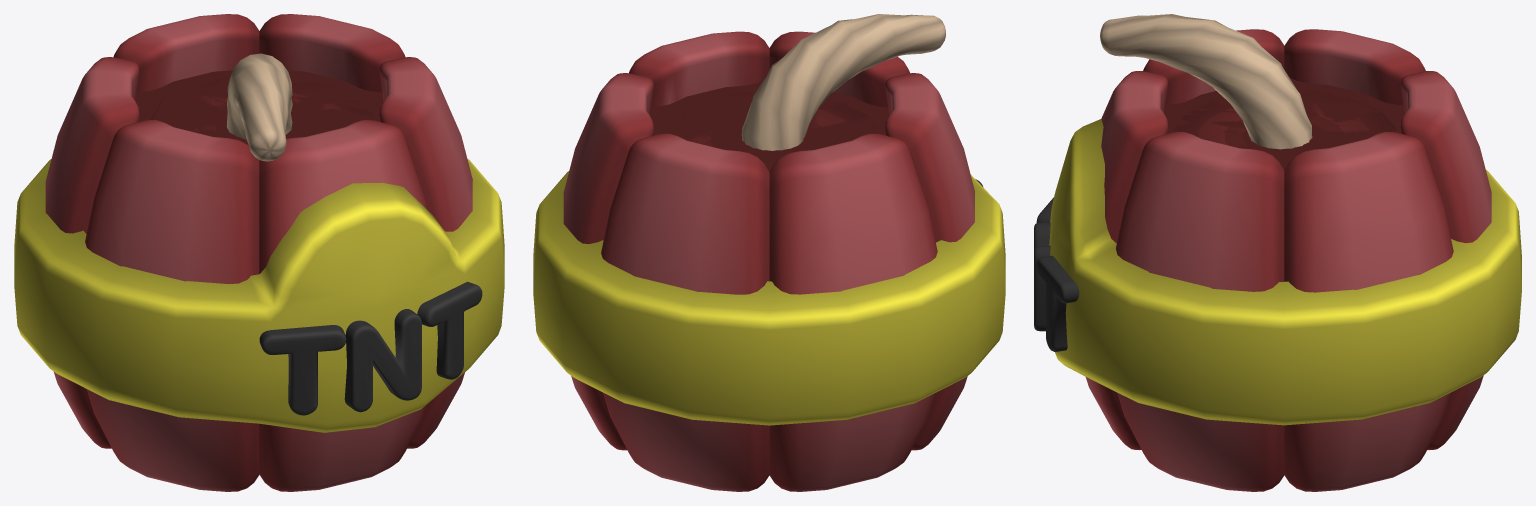
Rendered from Barrel_TNT.fbx.
The picture shows the model from 3 angles, left to right: view 1: azimuth 30°, elevation 25°; view 2: azimuth 150°, elevation 25°; view 3: azimuth 270°, elevation 25°; orthographic projection. The views are drawn at different scales.
Parts seen in each view (by area): view 1: Barrel_TNT; view 2: Barrel_TNT; view 3: Barrel_TNT.
Boxes of the visible parts, <box> form: Barrel_TNT: <box>14,14,504,491</box>; Barrel_TNT: <box>533,14,1005,491</box>; Barrel_TNT: <box>1034,14,1521,491</box>.
Bounding box in the file's own units: 849 × 748 × 859.
